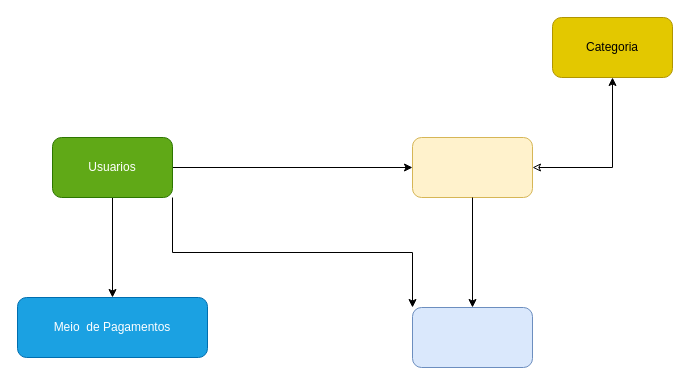
The diagram is 690 pixels wide and 385 high, and some of its shapes have lost their labels. Here are the shapes that lost their labels. From the top down, the centre of each, then its label:
At point (472, 167): "Produtos".
At point (472, 337): "Avaliacoes".
